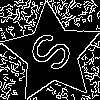S: (27, 28, 83, 81)
